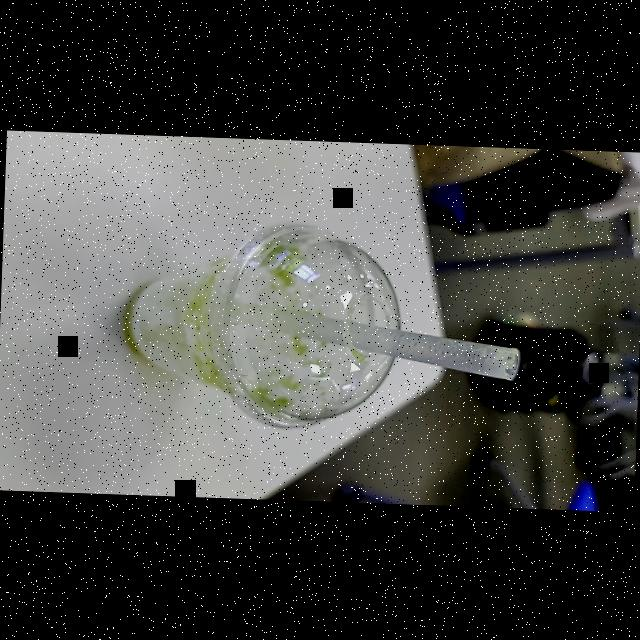plastic_cup: (114, 214, 406, 438)
plastic_cup_lid: (212, 216, 404, 438)
straw: (230, 298, 524, 382)
